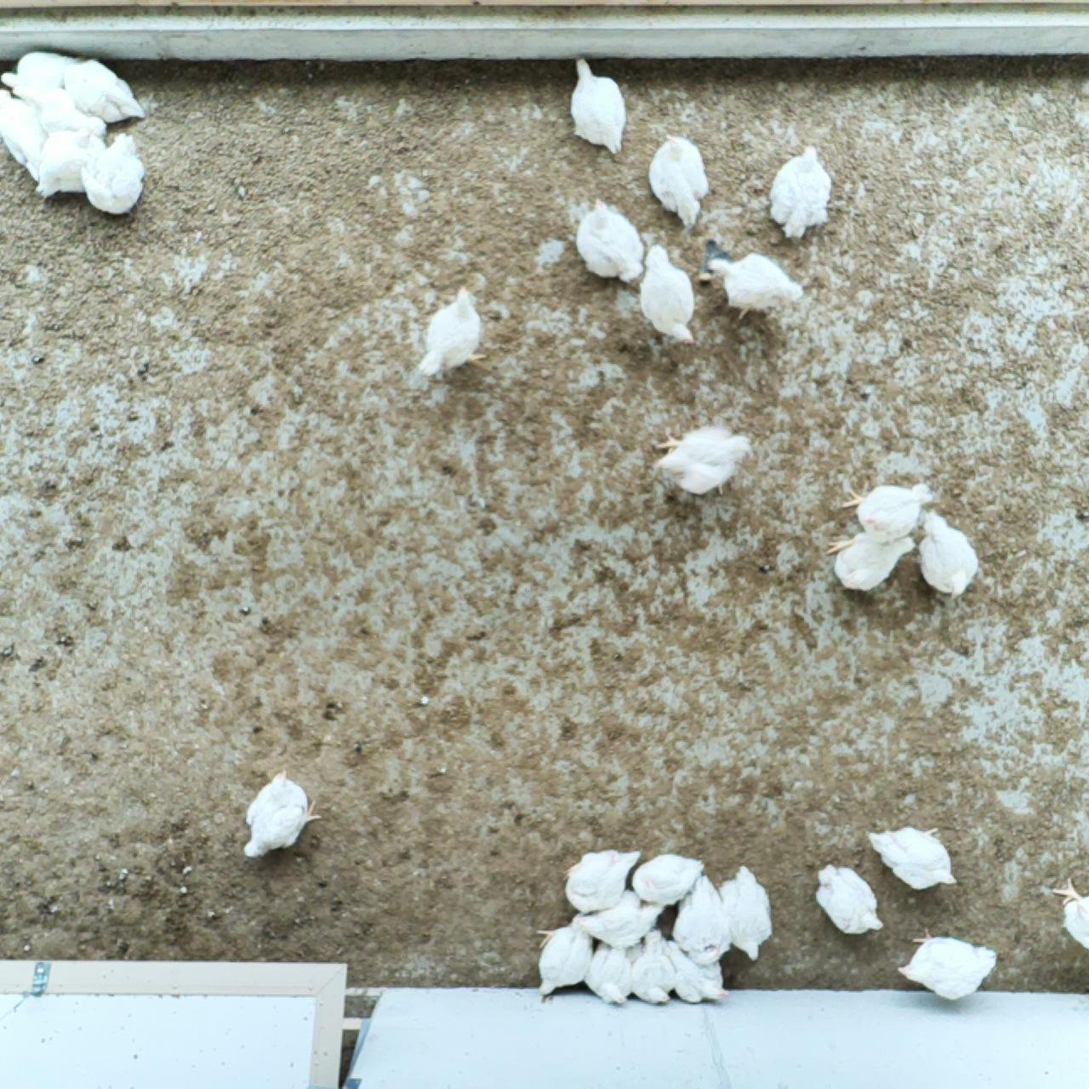chicken: (892, 924, 1001, 1004), (235, 766, 321, 864), (635, 243, 706, 351), (650, 421, 754, 494), (765, 141, 838, 244), (707, 248, 808, 322), (572, 192, 648, 288), (417, 282, 491, 380), (646, 128, 713, 228), (824, 528, 918, 598), (865, 820, 958, 890), (840, 479, 935, 546), (917, 504, 981, 603), (714, 862, 776, 964), (77, 131, 148, 220), (566, 55, 626, 155), (670, 873, 735, 965), (61, 58, 146, 125), (559, 844, 642, 912), (814, 861, 886, 936), (12, 81, 106, 135), (532, 921, 593, 1003), (34, 133, 104, 204), (630, 849, 710, 908), (0, 87, 49, 178), (668, 938, 733, 1006), (584, 934, 642, 1009), (1, 48, 81, 100), (630, 928, 679, 1006), (1051, 874, 1089, 949)
